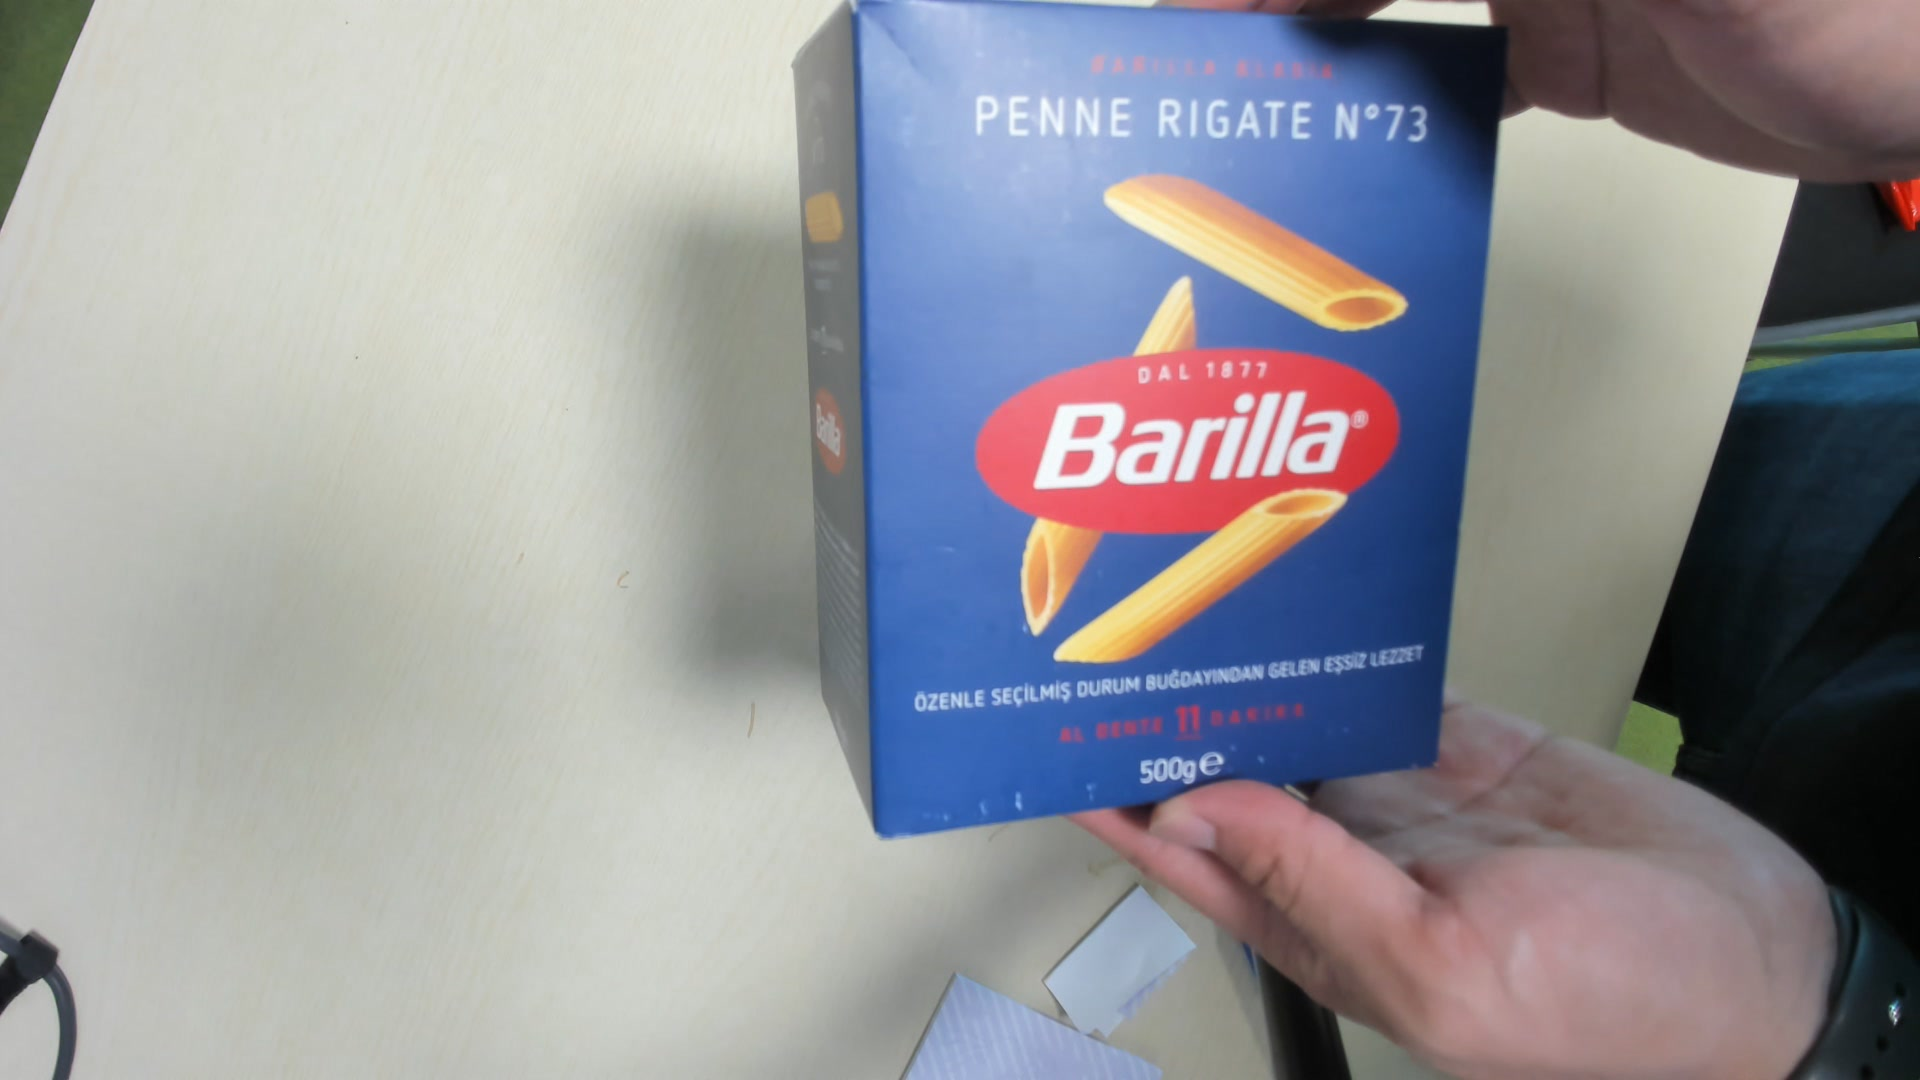Pasta_500-599g_NonHalal_NonHealthy: (789, 3, 1502, 847)
